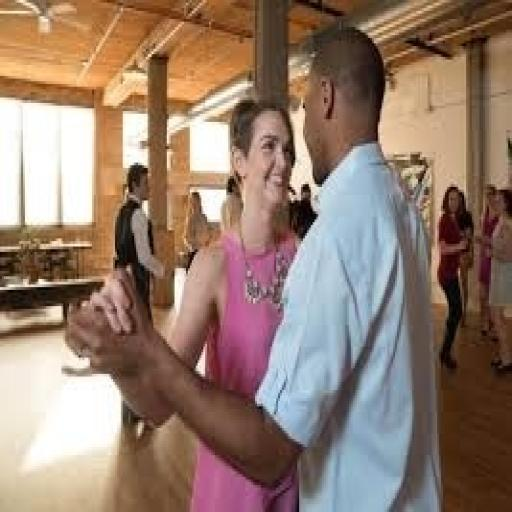dancing: (63, 22, 445, 509)
